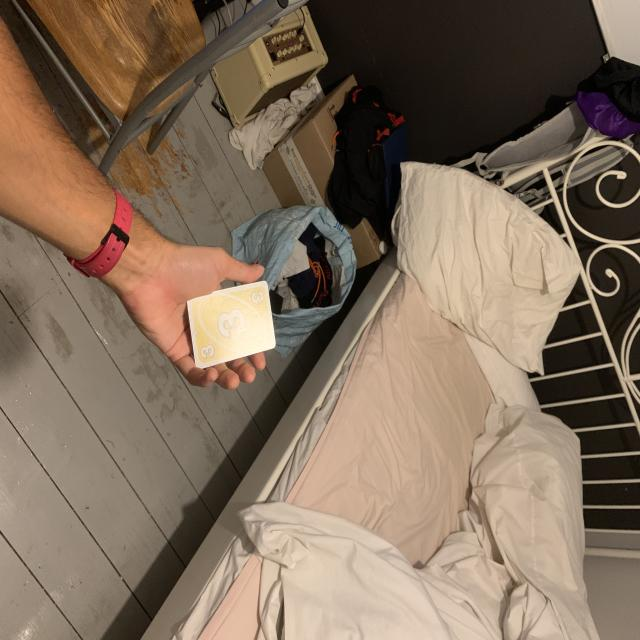lyellow-3: (248, 289, 266, 309)
